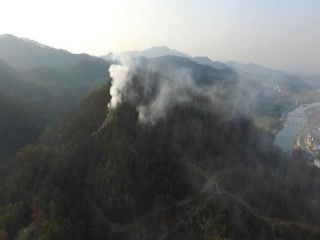smoke: (87, 48, 266, 140)
